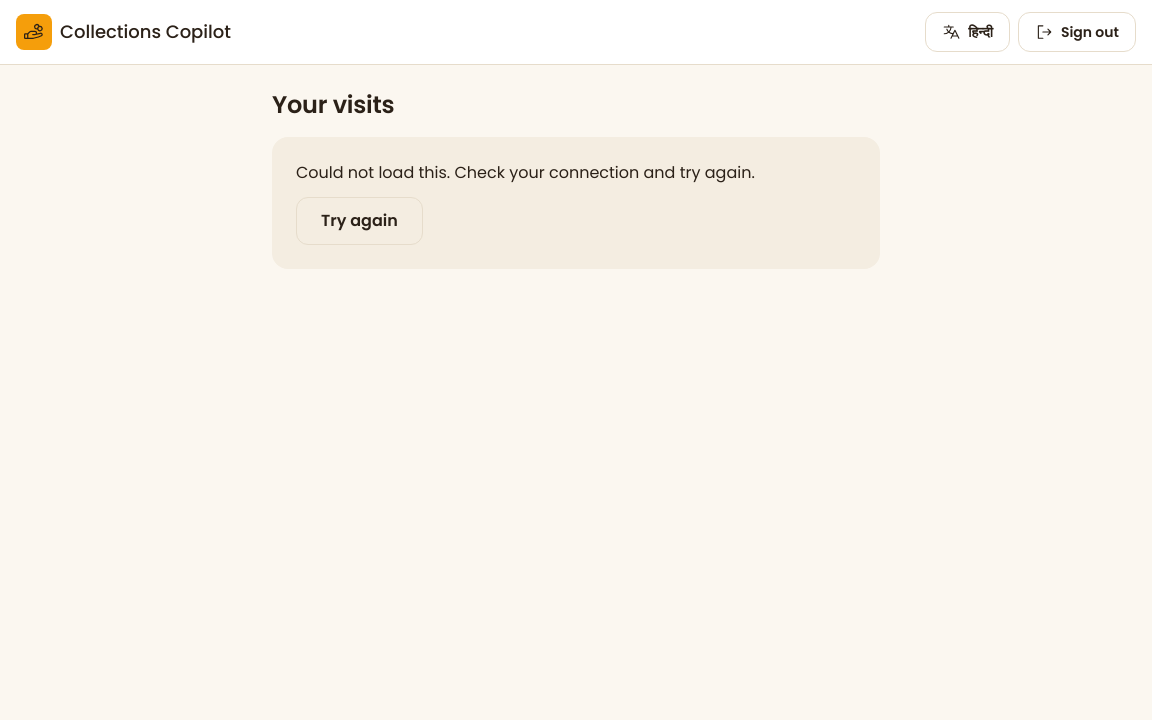
officer list › shows an error and the retry button actually reloads
Expected: the message shows "Could not load this", [296, 161, 755, 184]
Click the button "Try again": (359, 221) [296, 197, 423, 245]
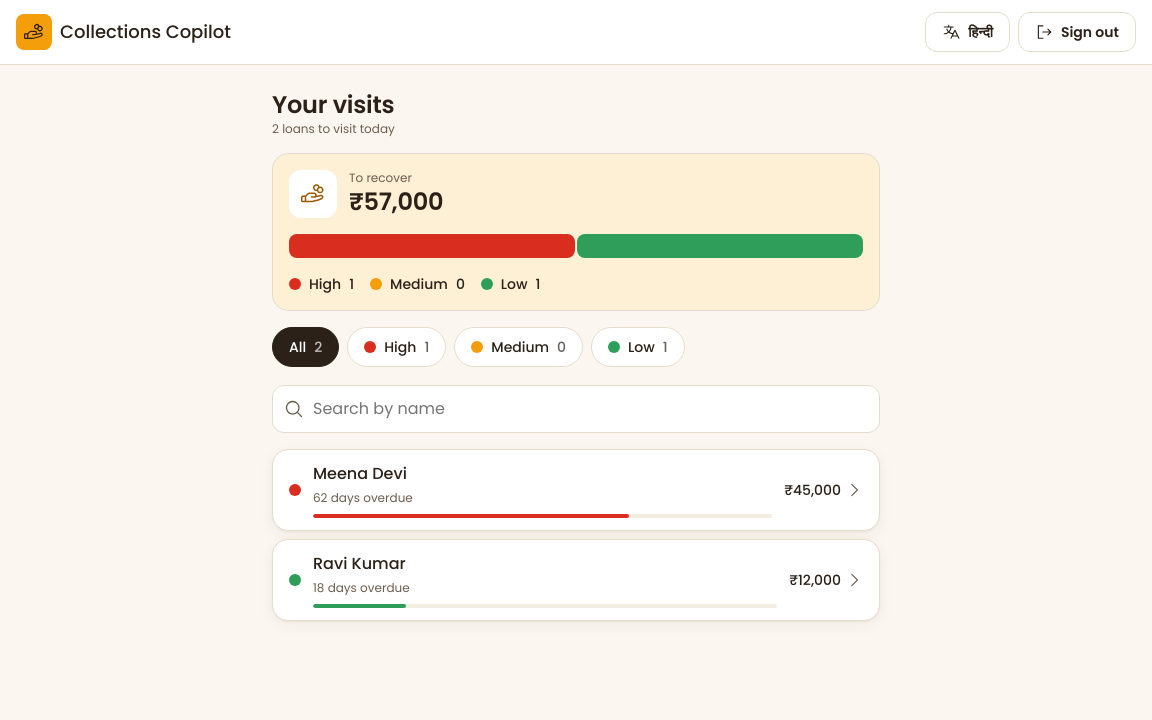
Expected: the text "Meena Devi" is shown, [313, 462, 407, 485]
